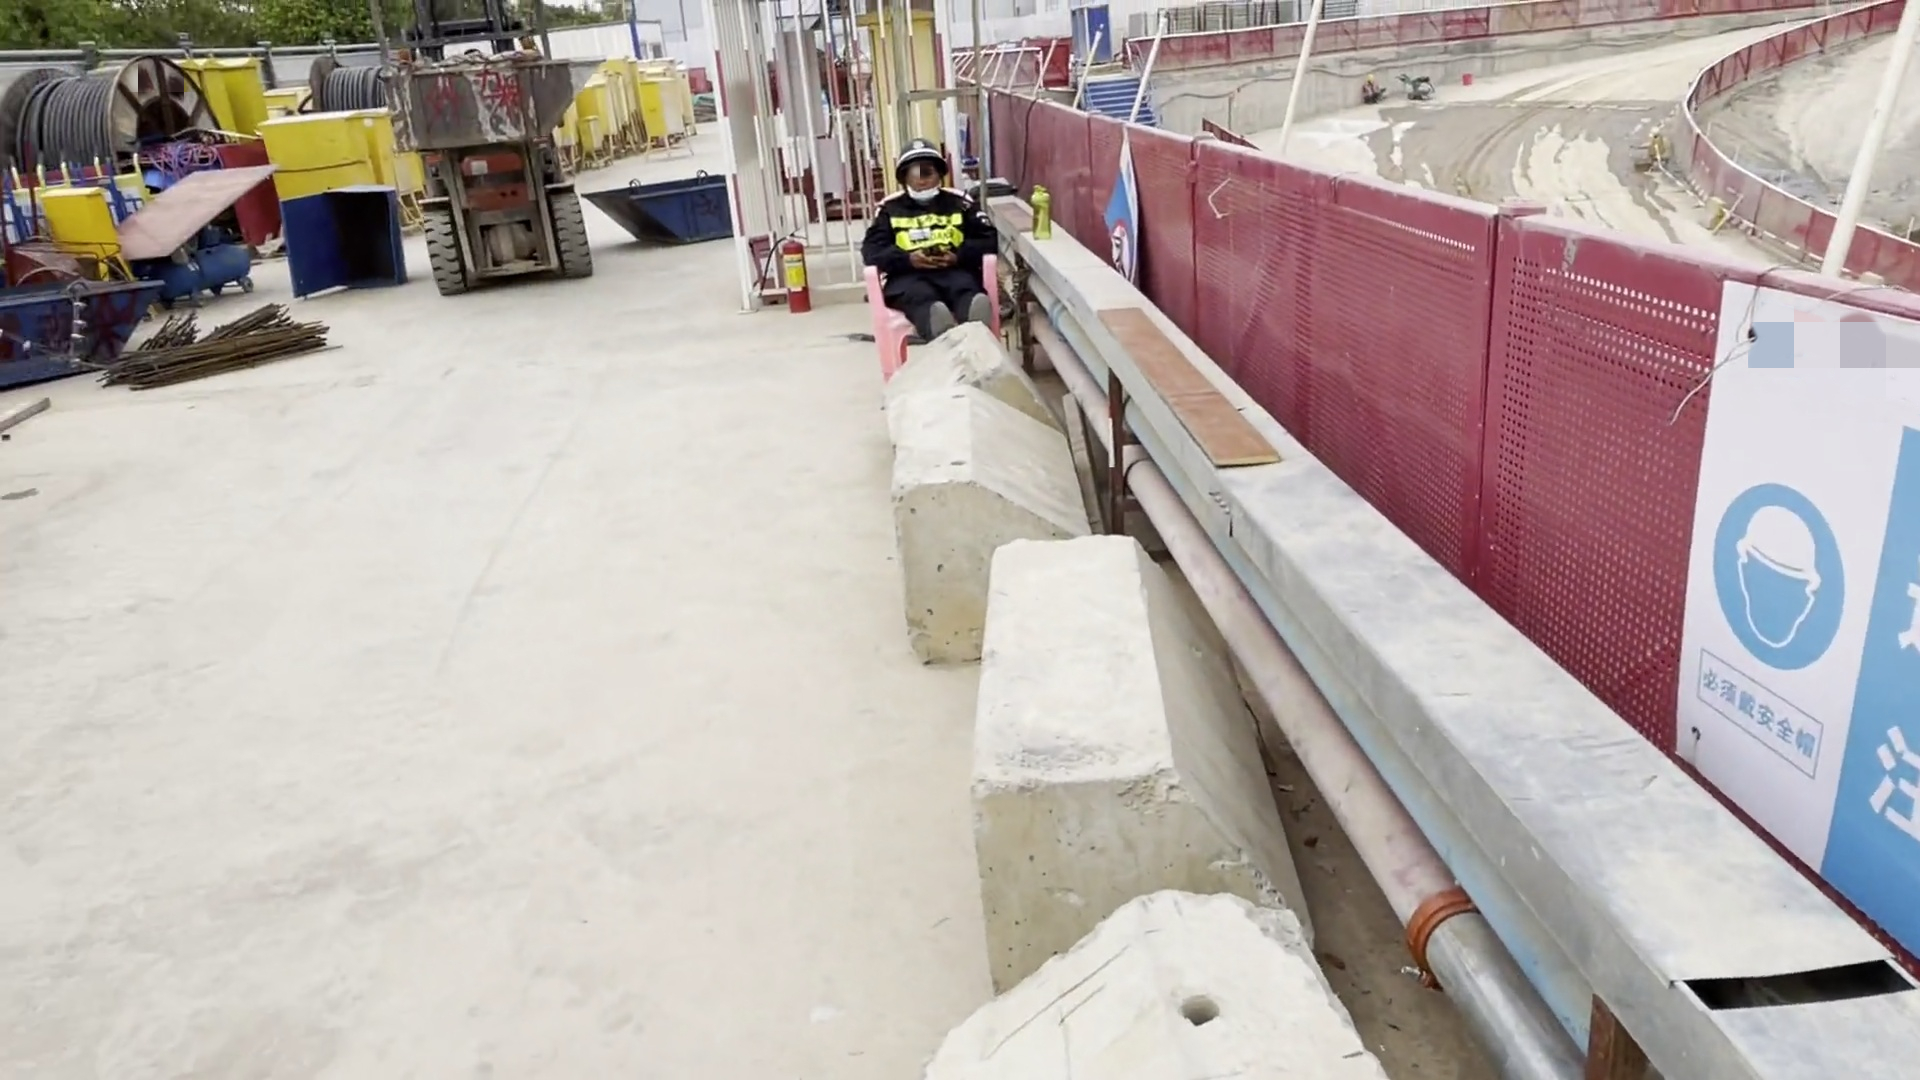fence: (1496, 234, 1920, 952), (1192, 142, 1501, 604), (1082, 120, 1198, 324), (1363, 5, 1576, 50), (1129, 27, 1360, 61)
helmet: (891, 135, 947, 167)
hopper: (386, 53, 611, 145), (1, 265, 156, 389), (589, 157, 733, 249)
person: (829, 130, 1018, 348)
slogan: (1697, 308, 1920, 842)
vest: (878, 195, 982, 268)
